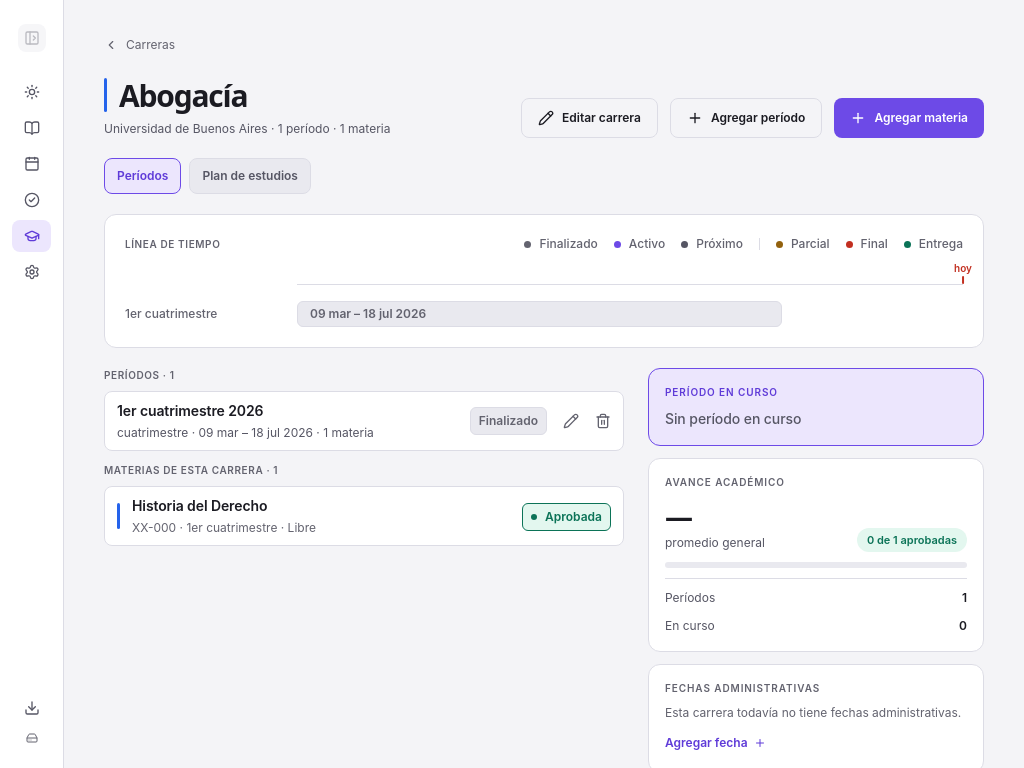
Test: router, against the real screens › a real subject deletion, wired to the real router › redirects to the carrera tab the subject was opened from, and the subject leaves that tab's list
Check: the heading "Abogacía" is shown, box x1=119 y1=78 x2=248 y2=112
Click the button "Historia del Derecho". click: {"x": 200, "y": 506}
box: x1=104 y1=486 x2=624 y2=546
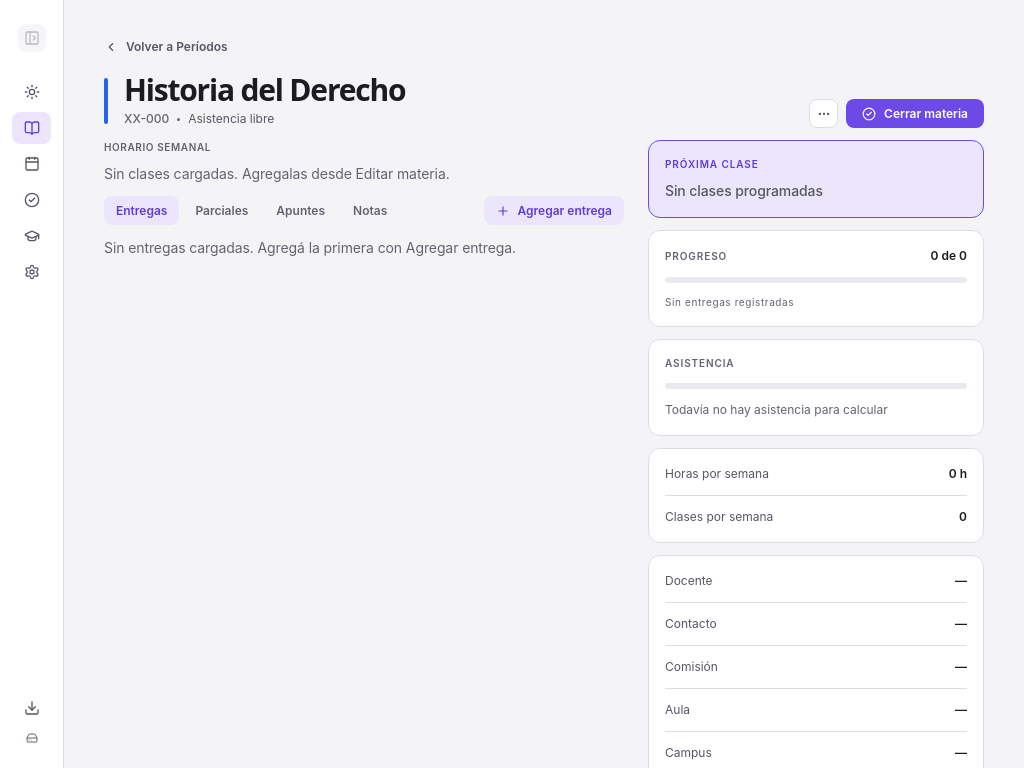
Check: the heading "Historia del Derecho" is shown, box x1=124 y1=73 x2=405 y2=106
Click the button named "Más acciones". click: {"x": 824, "y": 114}
box: x1=809 y1=99 x2=838 y2=128
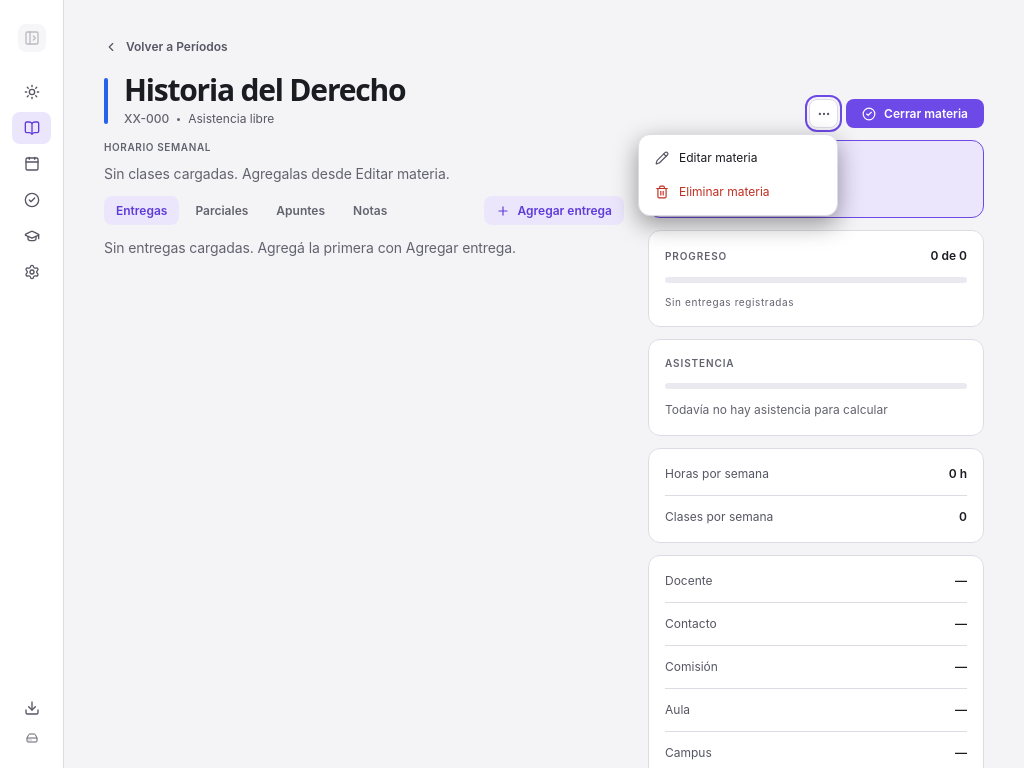
Click the menu item "Eliminar materia". click: {"x": 738, "y": 192}
box: x1=645 y1=175 x2=831 y2=209
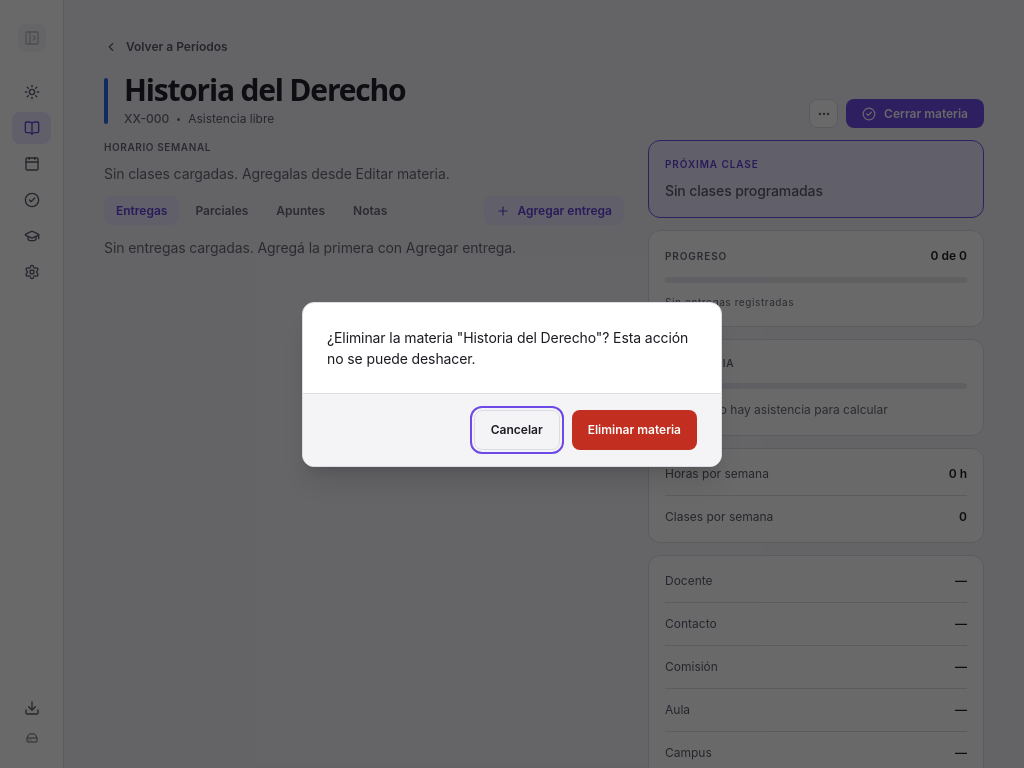
Click the button "Eliminar materia". click: {"x": 634, "y": 430}
box: x1=572 y1=410 x2=697 y2=450
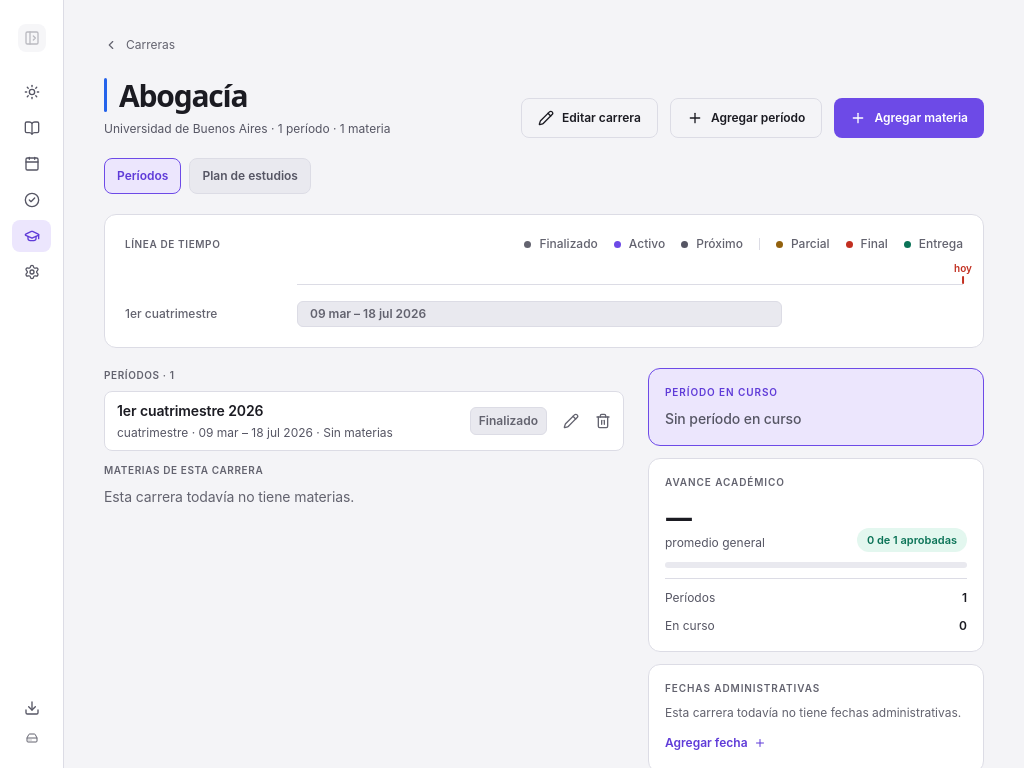
Check: the heading "Abogacía" is shown, box x1=119 y1=78 x2=248 y2=112
Check: the heading "Historia del Derecho" is gone
